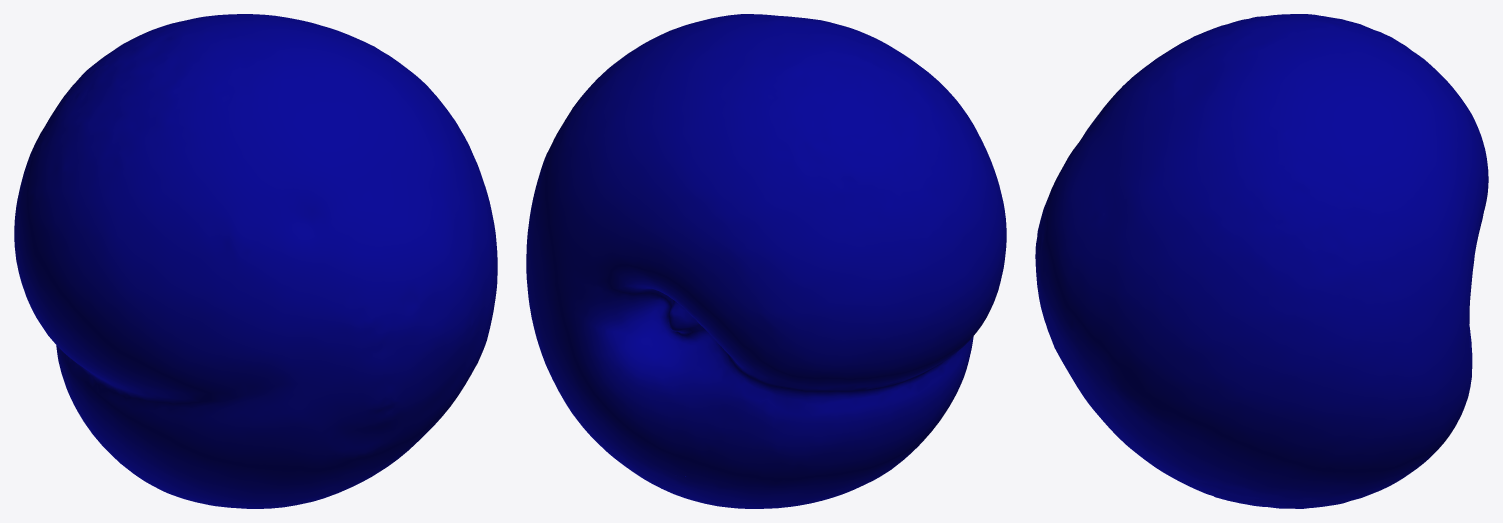
The picture shows the model from 3 angles, left to right: view 1: azimuth 30°, elevation 25°; view 2: azimuth 150°, elevation 25°; view 3: azimuth 270°, elevation 25°; orthographic projection. The views are drawn at different scales.
Size of the model in its own units: 0.0611 by 0.0629 by 0.0584.
